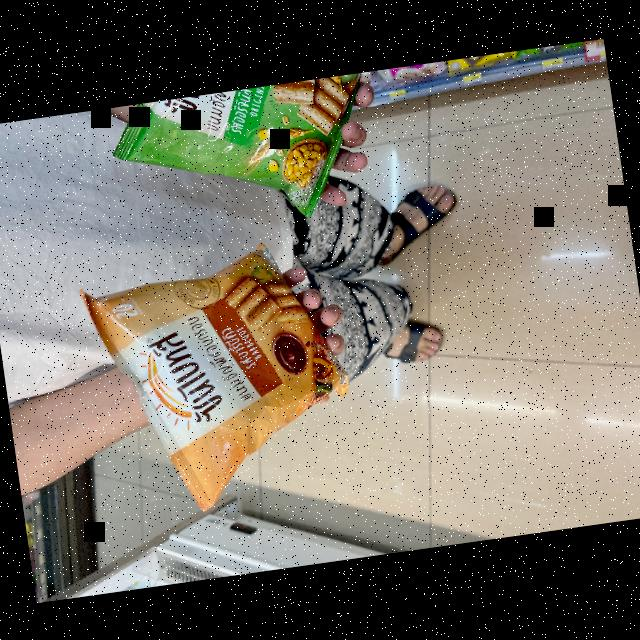snack_bag: (69, 228, 359, 532), (104, 71, 388, 247)
